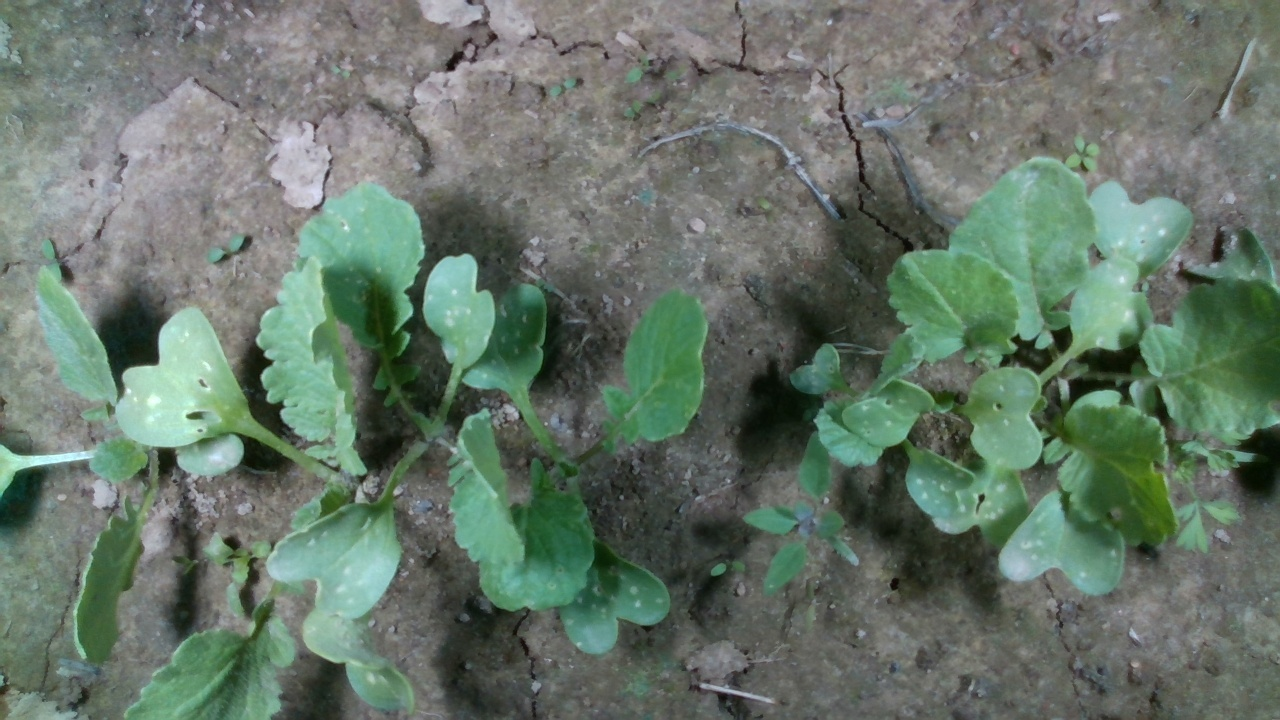weed: (204, 233, 245, 265), (709, 558, 747, 577), (547, 76, 576, 99)
